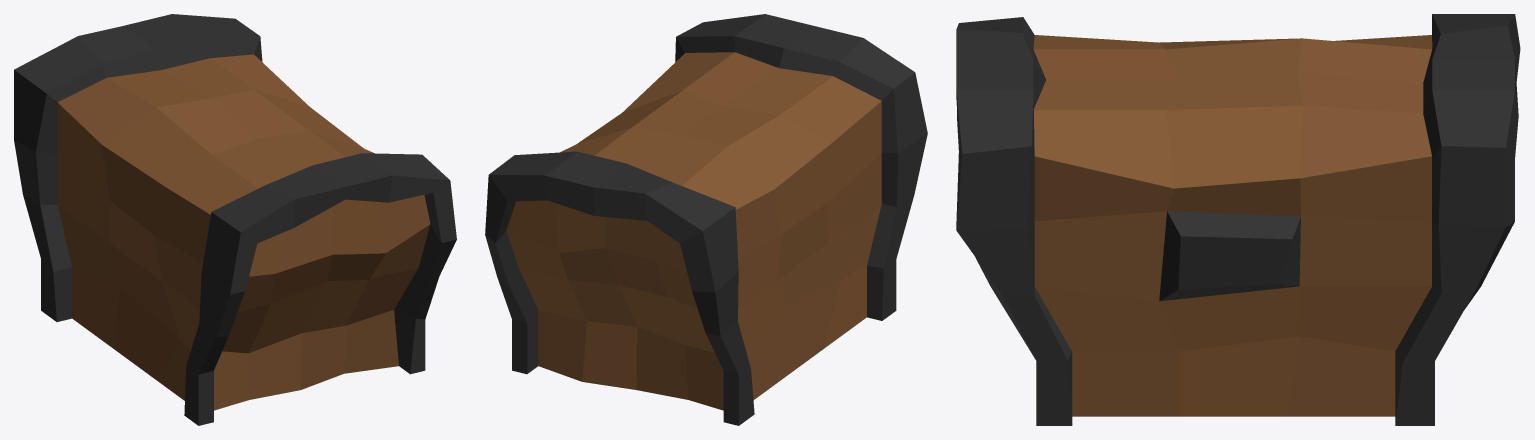
File: Chest.fbx
3 renders of one model, left to right at view 1: azimuth 30°, elevation 25°; view 2: azimuth 150°, elevation 25°; view 3: azimuth 270°, elevation 25°, orthographic. The views are drawn at different scales.
Visible parts, largest first — view 1: Chest; view 2: Chest; view 3: Chest.
Boxes of the visible parts, bbox=[...] form: Chest: bbox=[14, 14, 456, 425]; Chest: bbox=[485, 14, 927, 425]; Chest: bbox=[956, 14, 1520, 425].
Bounding box in the file's own units: 237 × 231 × 393.
